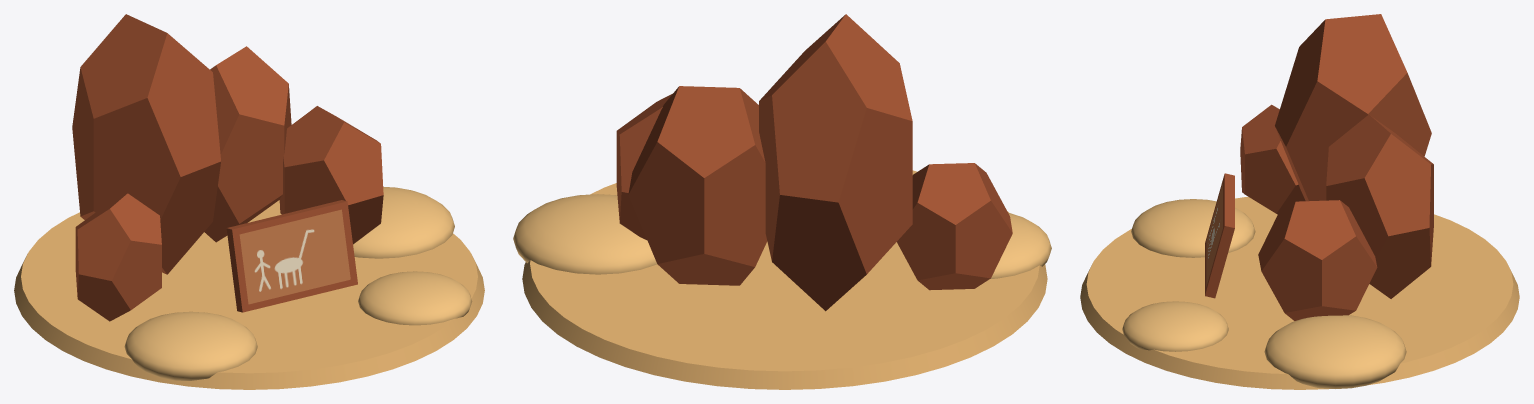
The model's file is tassili.glb.
The picture shows the model from 3 angles, left to right: view 1: azimuth 30°, elevation 25°; view 2: azimuth 150°, elevation 25°; view 3: azimuth 270°, elevation 25°; orthographic projection. The views are drawn at different scales.
Parts seen in each view (by area): view 1: rock, ground, sand, painting; view 2: rock, ground, sand; view 3: rock, ground, sand, painting.
Part boxes in pixels (x1,y1,x2,y2): rock: (72,14,383,321); ground: (14,200,484,389); sand: (124,187,472,380); painting: (226,200,357,312); rock: (616,14,1012,311); ground: (522,170,1047,389); sand: (513,194,1051,278); rock: (1240,14,1433,320); ground: (1080,197,1519,389); sand: (1122,199,1406,388); painting: (1205,173,1234,298).
Bounding box in the file's own units: 2.54 × 1.59 × 2.47.
Materials: 7 (1 with a texture image).
